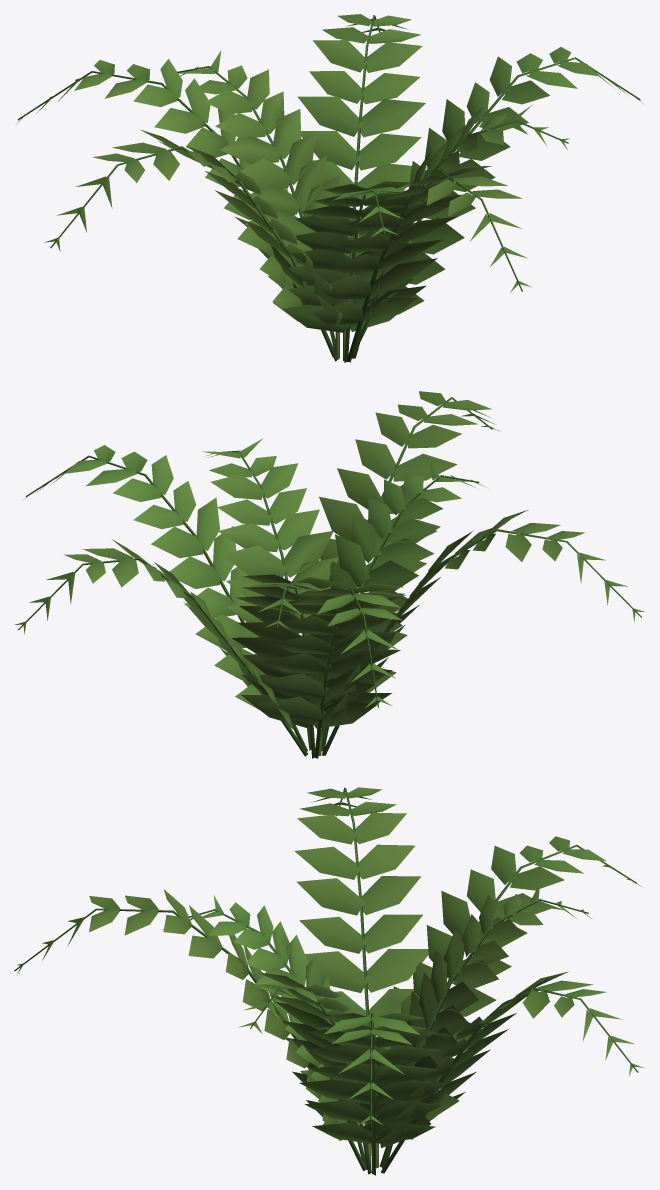
Rendered from fern.glb.
3 views of the same model, one above another, from view 1: azimuth 30°, elevation 25°; view 2: azimuth 150°, elevation 25°; view 3: azimuth 270°, elevation 25° (orthographic).
Visible parts, largest first — view 1: Fern; view 2: Fern; view 3: Fern.
Part boxes in pixels (x1,y1,x2,y2): Fern: (16, 14, 644, 362); Fern: (14, 391, 644, 758); Fern: (14, 787, 644, 1175).
Bounding box in the file's own units: 1.12 × 0.4692 × 1.
